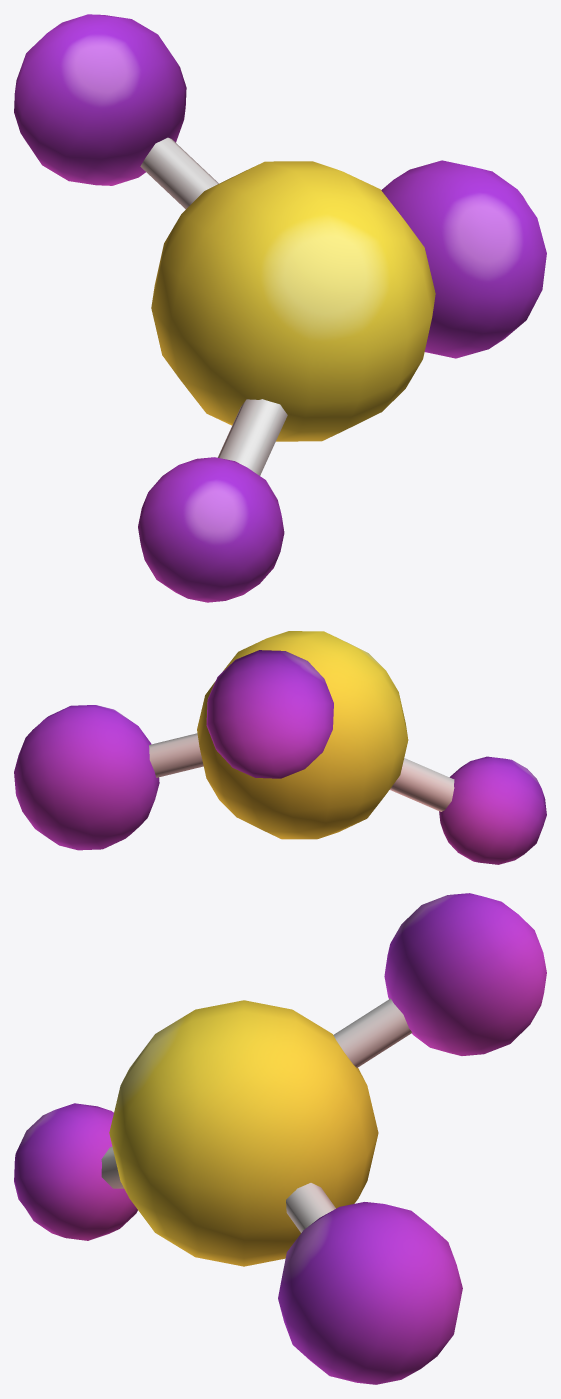
The model's file is DNA_B.fbx.
3 views of the same model, one above another, from view 1: azimuth 30°, elevation 25°; view 2: azimuth 150°, elevation 25°; view 3: azimuth 270°, elevation 25° (orthographic). The views are drawn at different scales.
Visible parts, largest first — view 1: DNA_B; view 2: DNA_B; view 3: DNA_B.
Part boxes in pixels (bbox=[...]): DNA_B: bbox=[14, 14, 546, 602]; DNA_B: bbox=[14, 631, 546, 864]; DNA_B: bbox=[14, 893, 546, 1384].
Size of the model in its own units: 318 by 225 by 291.
Materials: 1 (1 with a texture image).
